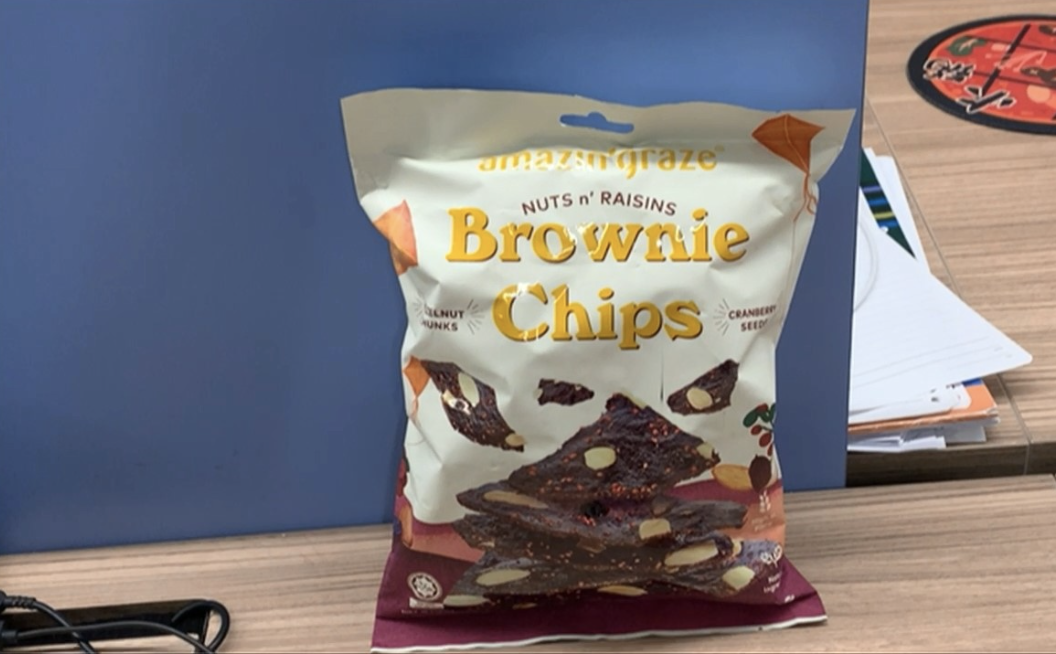crackers_150g: (397, 151, 776, 623)
